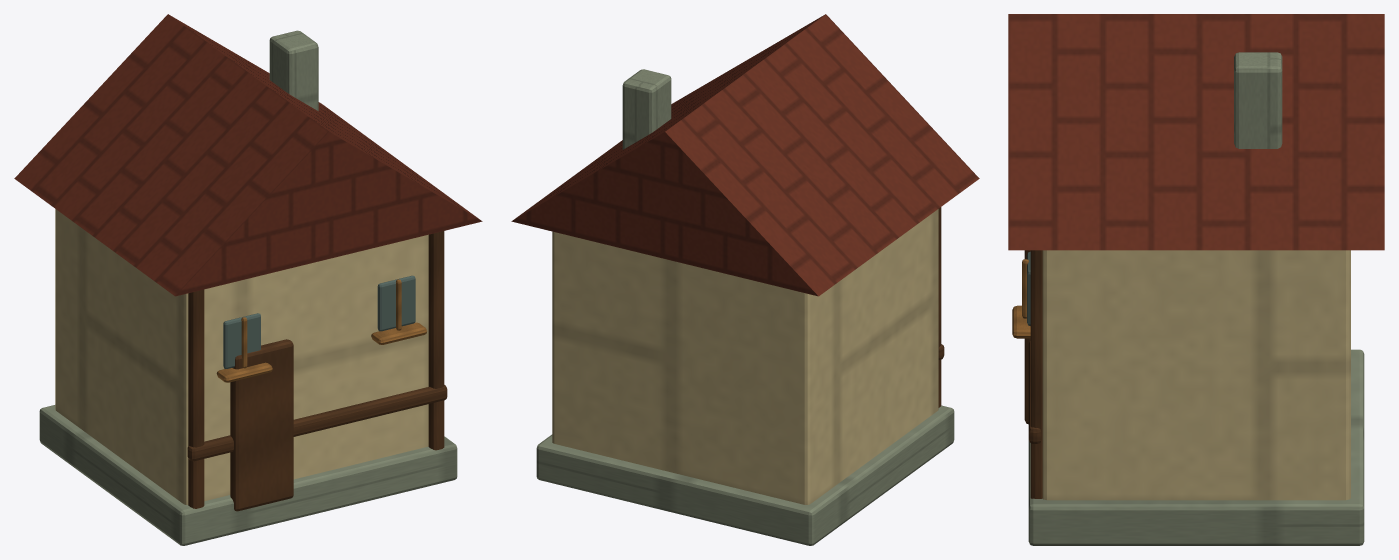
File: house.glb
3 views of the same model, side by side, from view 1: azimuth 30°, elevation 25°; view 2: azimuth 150°, elevation 25°; view 3: azimuth 270°, elevation 25° (orthographic). The views are drawn at different scales.
Parts seen in each view (by area): view 1: gable_roof, plaster, foundation, door, beam, timber_corner, timber_corner.001, chimney, window_inset.001, window_inset, window_sill.001, window_sill; view 2: plaster, gable_roof, foundation, chimney, timber_corner; view 3: gable_roof, plaster, foundation, chimney, timber_corner.001, window_sill.001, door, beam.
Part boxes in pixels (left/top/right/bottom): gable_roof: left=14, top=14, right=482, bottom=296; plaster: left=55, top=209, right=428, bottom=504; foundation: left=39, top=405, right=457, bottom=545; door: left=230, top=339, right=293, bottom=511; beam: left=187, top=385, right=447, bottom=461; timber_corner: left=188, top=289, right=204, bottom=508; timber_corner.001: left=428, top=231, right=444, bottom=450; chimney: left=269, top=30, right=318, bottom=110; window_inset.001: left=377, top=275, right=415, bottom=331; window_inset: left=223, top=313, right=260, bottom=368; window_sill.001: left=371, top=322, right=426, bottom=344; window_sill: left=216, top=362, right=272, bottom=382; plaster: left=552, top=209, right=938, bottom=504; gable_roof: left=511, top=14, right=979, bottom=296; foundation: left=536, top=405, right=954, bottom=545; chimney: left=622, top=69, right=671, bottom=149; timber_corner: left=938, top=207, right=941, bottom=407; gable_roof: left=1008, top=14, right=1384, bottom=250; plaster: left=1042, top=250, right=1350, bottom=500; foundation: left=1028, top=349, right=1364, bottom=545; chimney: left=1234, top=52, right=1282, bottom=148; timber_corner.001: left=1030, top=250, right=1042, bottom=498; window_sill.001: left=1012, top=305, right=1030, bottom=338; door: left=1024, top=250, right=1030, bottom=424; beam: left=1028, top=341, right=1041, bottom=443.
Bounding box in the file's own units: 2.15 × 2.6 × 1.95.
6 materials, 5 textured.
